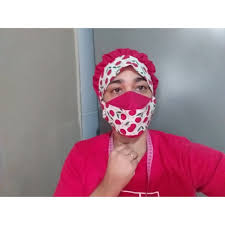with_mask_and_cap: (93, 52, 158, 139)
